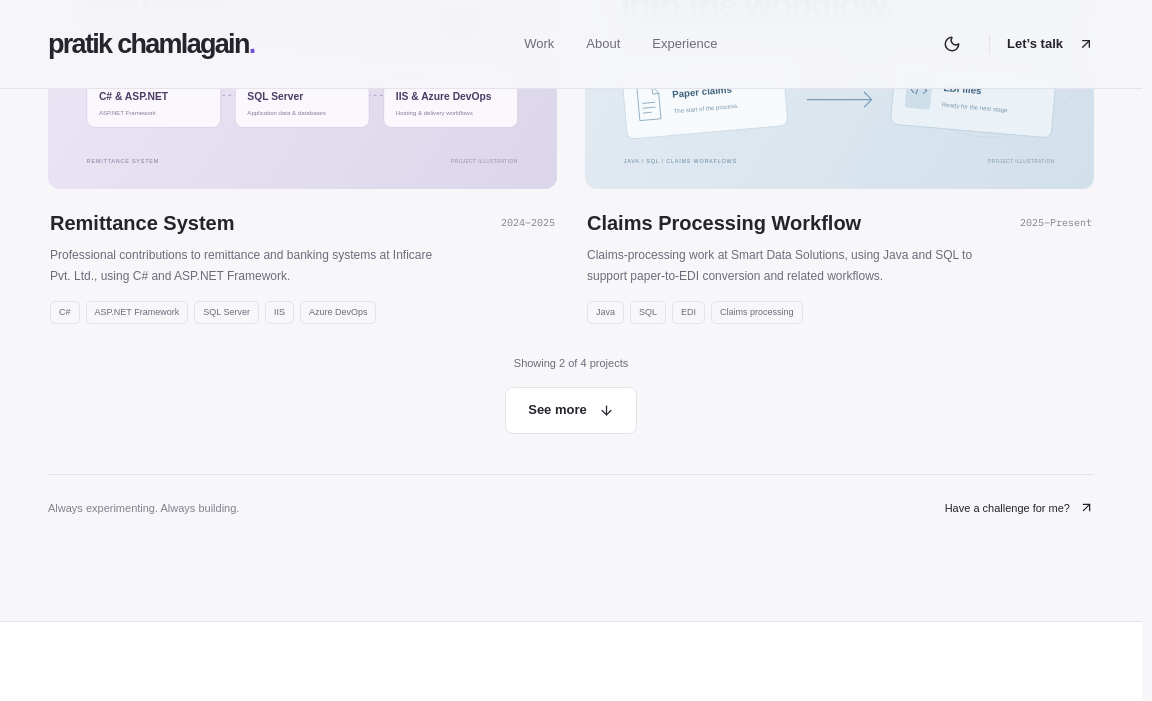
Test: portfolio interactions › reveals private projects on See more, omits repository links, and collapses them again
(page scrolled)
Expected: the heading "TeaShopPOS" is not shown
Expected: the heading "StreamX" is not shown
Click the button "See more" at (571, 410), box left=505, top=386, right=637, bottom=434
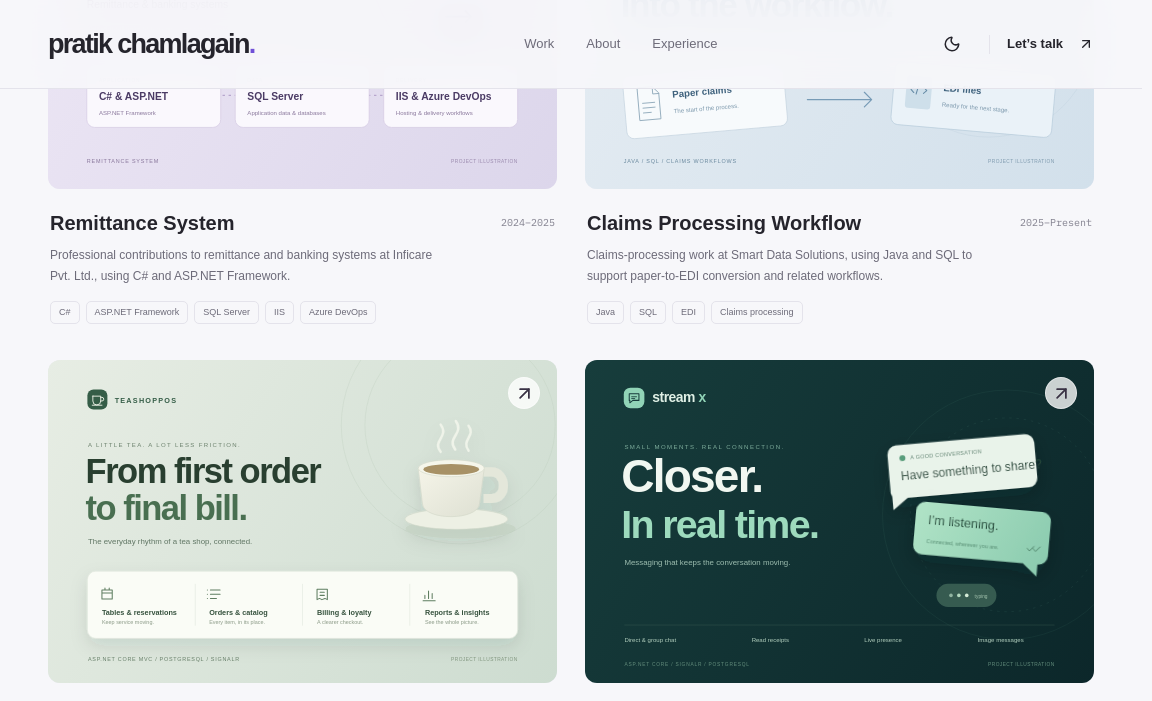
Click the button named "View TeaShopPOS project details" at (302, 521), box left=48, top=360, right=557, bottom=682
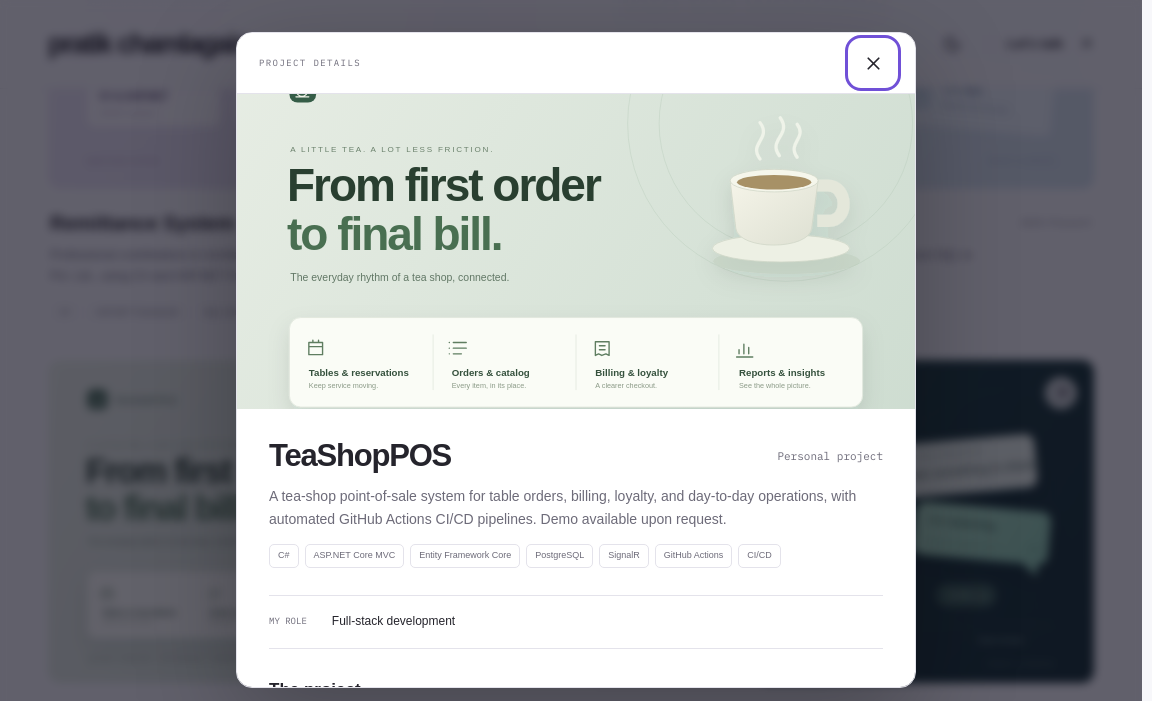
Result: the dialog "TeaShopPOS" shows "Demo available upon request." at left=269, top=488, right=856, bottom=527
Click the button named "Close project details" at (873, 63), box left=853, top=43, right=893, bottom=83
(page scrolled)
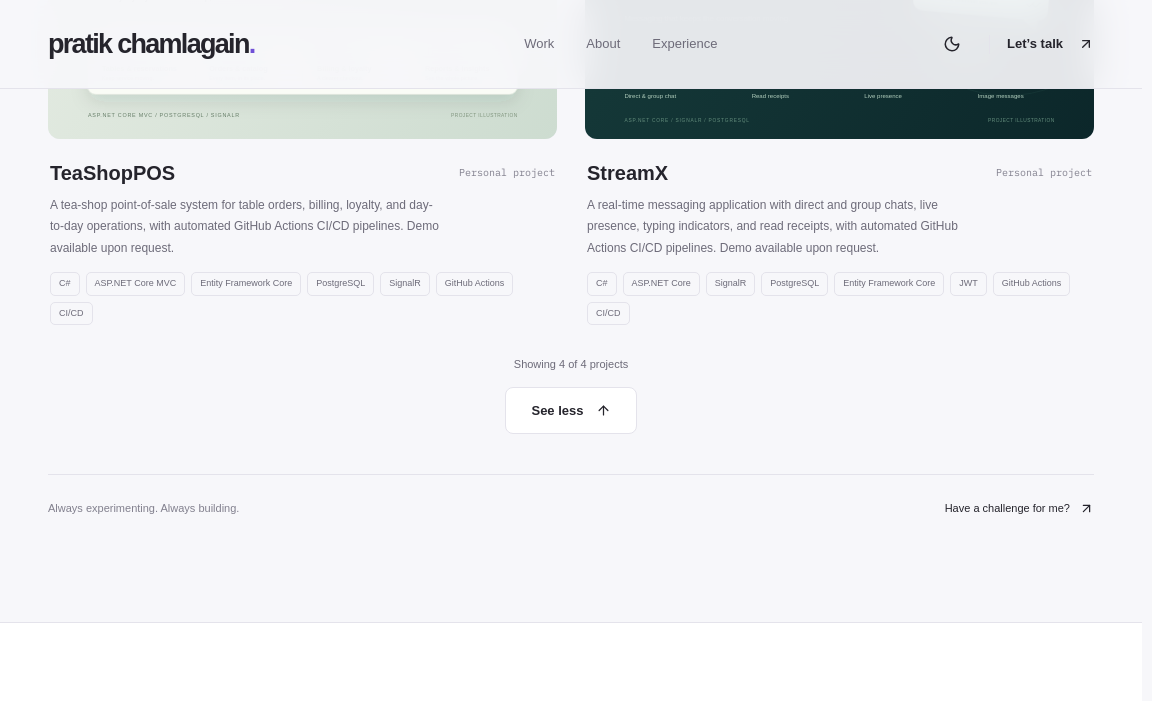
Click the button "See less" at (571, 411), box left=505, top=388, right=637, bottom=434
(page scrolled)
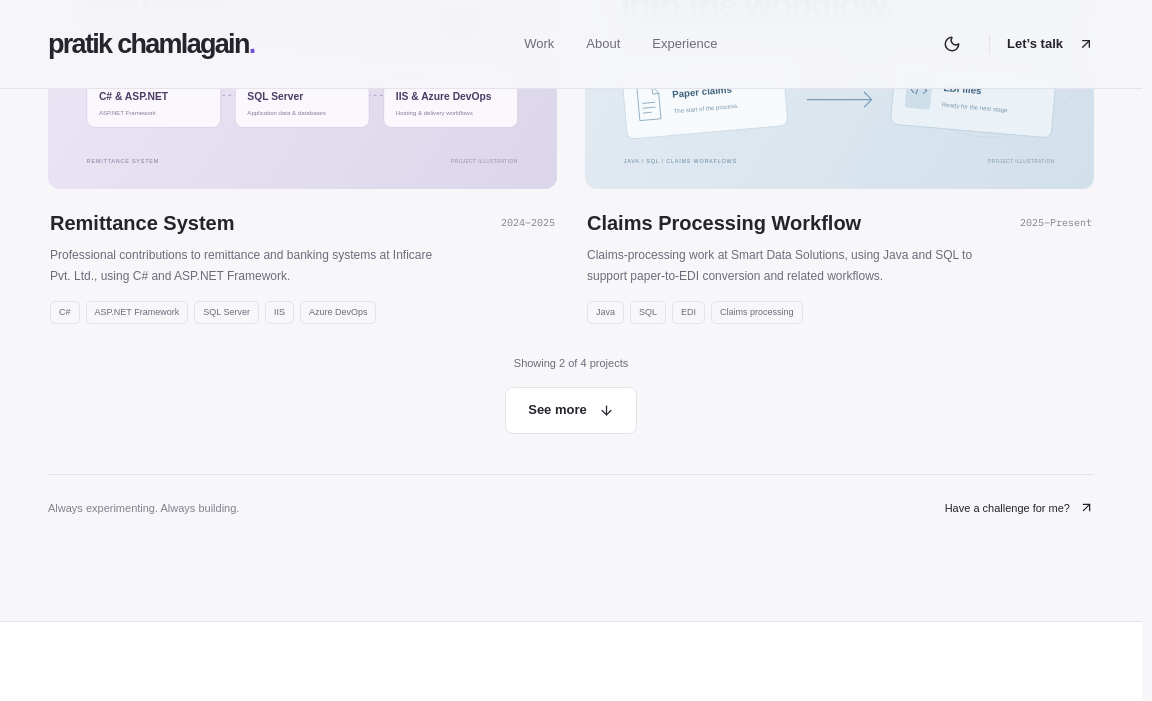
Result: the button "TeaShopPOS" is gone
Result: the button "See more" is collapsed at left=505, top=386, right=637, bottom=434
